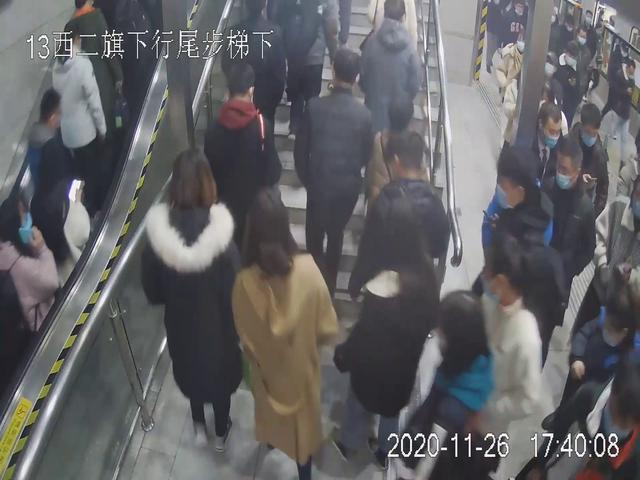person: (208, 193, 336, 474), (140, 146, 247, 455), (336, 199, 434, 467), (295, 55, 388, 303), (543, 143, 601, 345), (45, 18, 109, 193), (360, 1, 428, 153)
